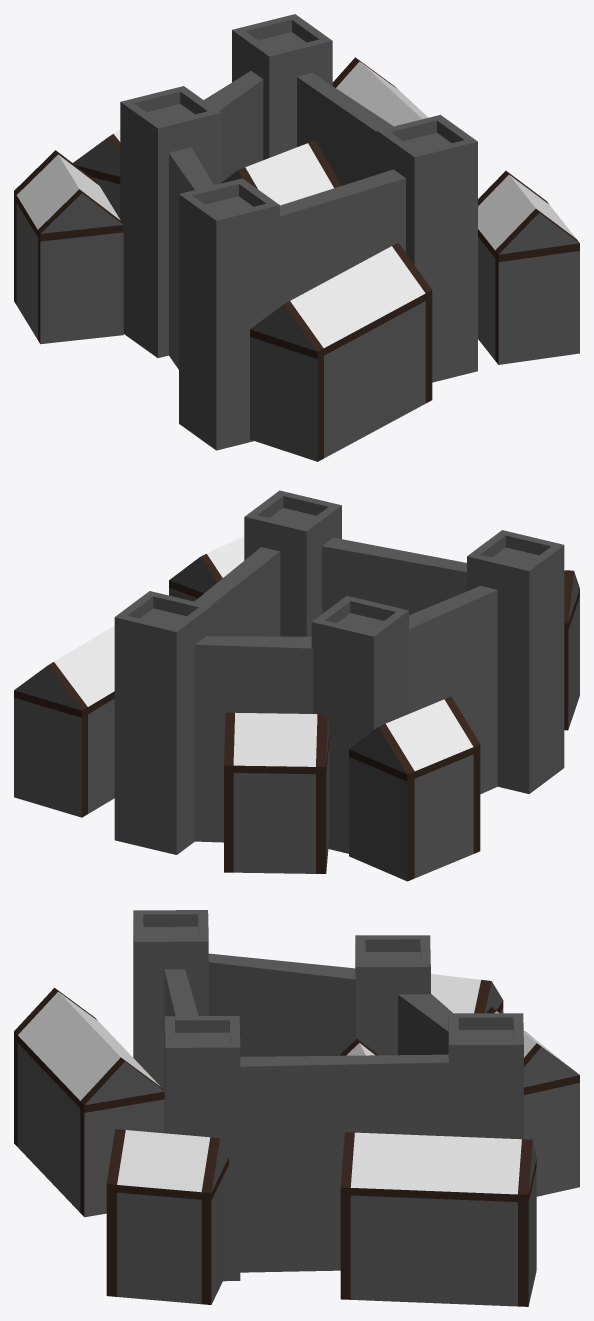
The model's file is SM_TileVillageCastle.fbx.
3 views of the same model, one above another, from view 1: azimuth 30°, elevation 25°; view 2: azimuth 150°, elevation 25°; view 3: azimuth 270°, elevation 25° (orthographic). The views are drawn at different scales.
Parts seen in each view (by area): view 1: TileVillageCastle; view 2: TileVillageCastle; view 3: TileVillageCastle.
Part boxes in pixels (box(x1,y1,x2,y2)): TileVillageCastle: box(14, 14, 579, 461); TileVillageCastle: box(14, 490, 579, 881); TileVillageCastle: box(14, 910, 579, 1306).
Bounding box in the file's own units: 349 × 184 × 403.
